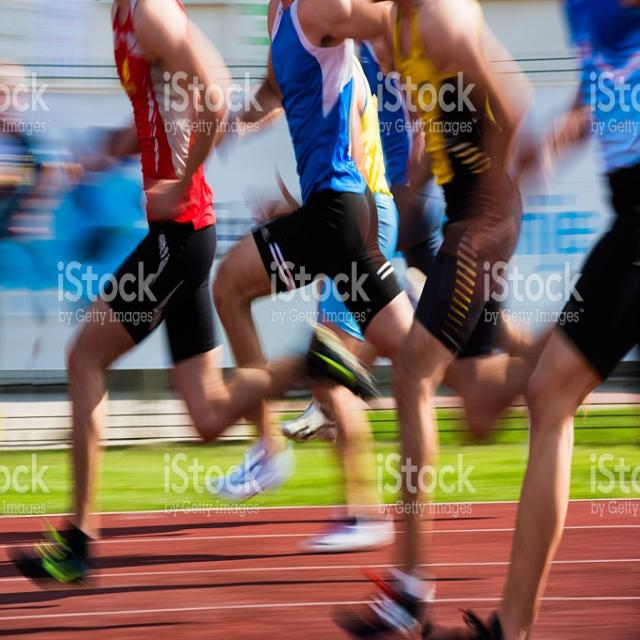body: (2, 0, 388, 638), (329, 0, 559, 640), (266, 3, 564, 445), (460, 0, 640, 637), (275, 20, 537, 448), (0, 502, 640, 639), (250, 54, 406, 550)
